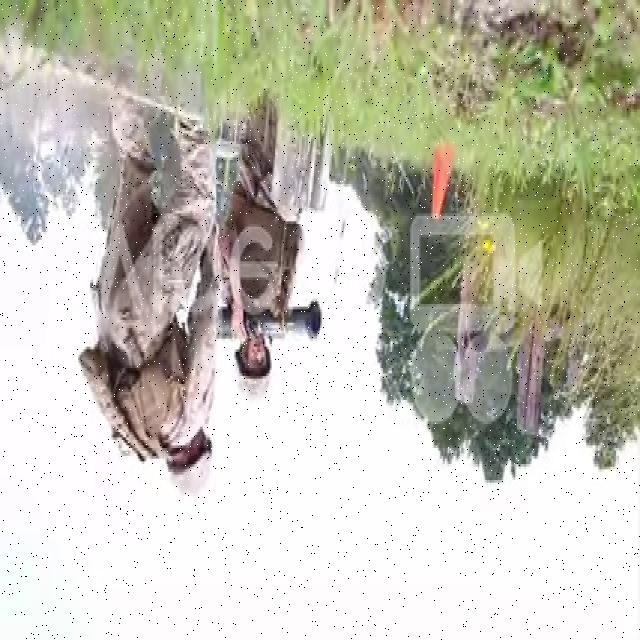bazooka: (220, 300, 328, 343)
